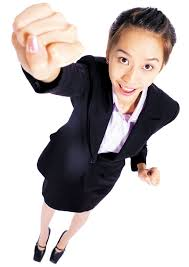fist: (11, 2, 85, 82)
